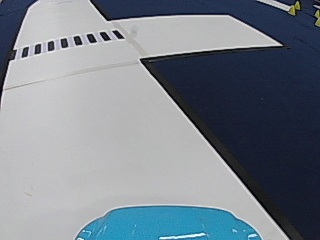CrossWalk: (13, 29, 125, 57)
